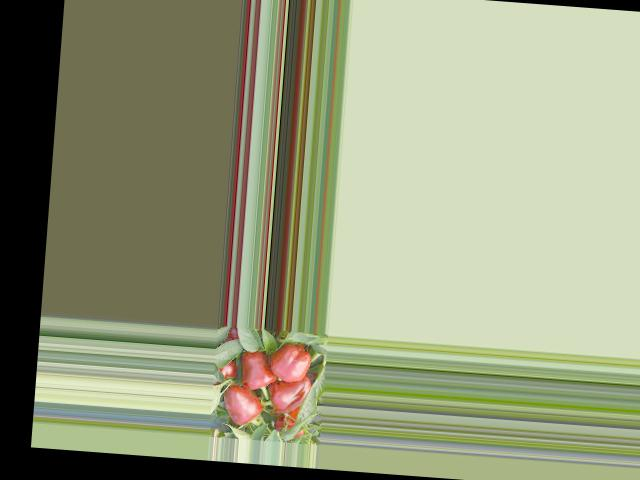bell_pepper: (259, 342, 315, 384)
